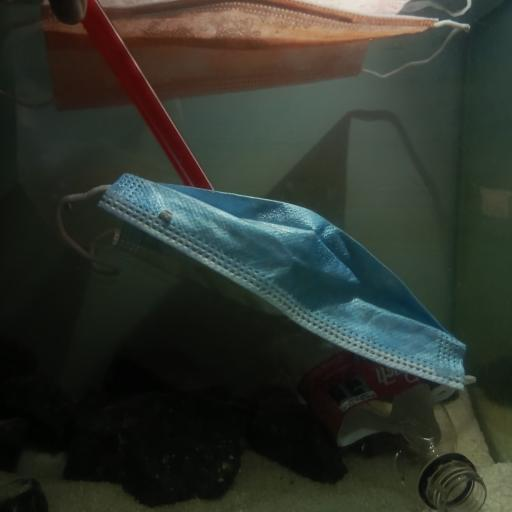mask: (52, 171, 480, 413), (3, 0, 469, 114)
plastic_bottle: (275, 324, 488, 512)
plastic_straw: (76, 0, 209, 187)
